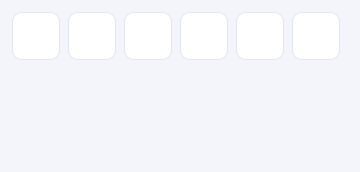
it: OtpInput › distributes a pasted code across the boxes
The image size is (360, 172).
Step 1. Click the field named "Email code digit 1" → x=36, y=36, box [12, 12, 60, 60]
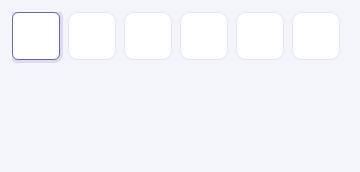
Step 2. Type keys "482913"
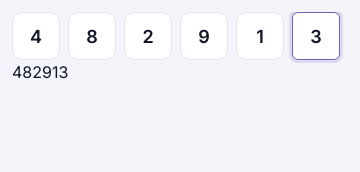
Now the text with test id "value" reads "482913", box [12, 62, 68, 82]
